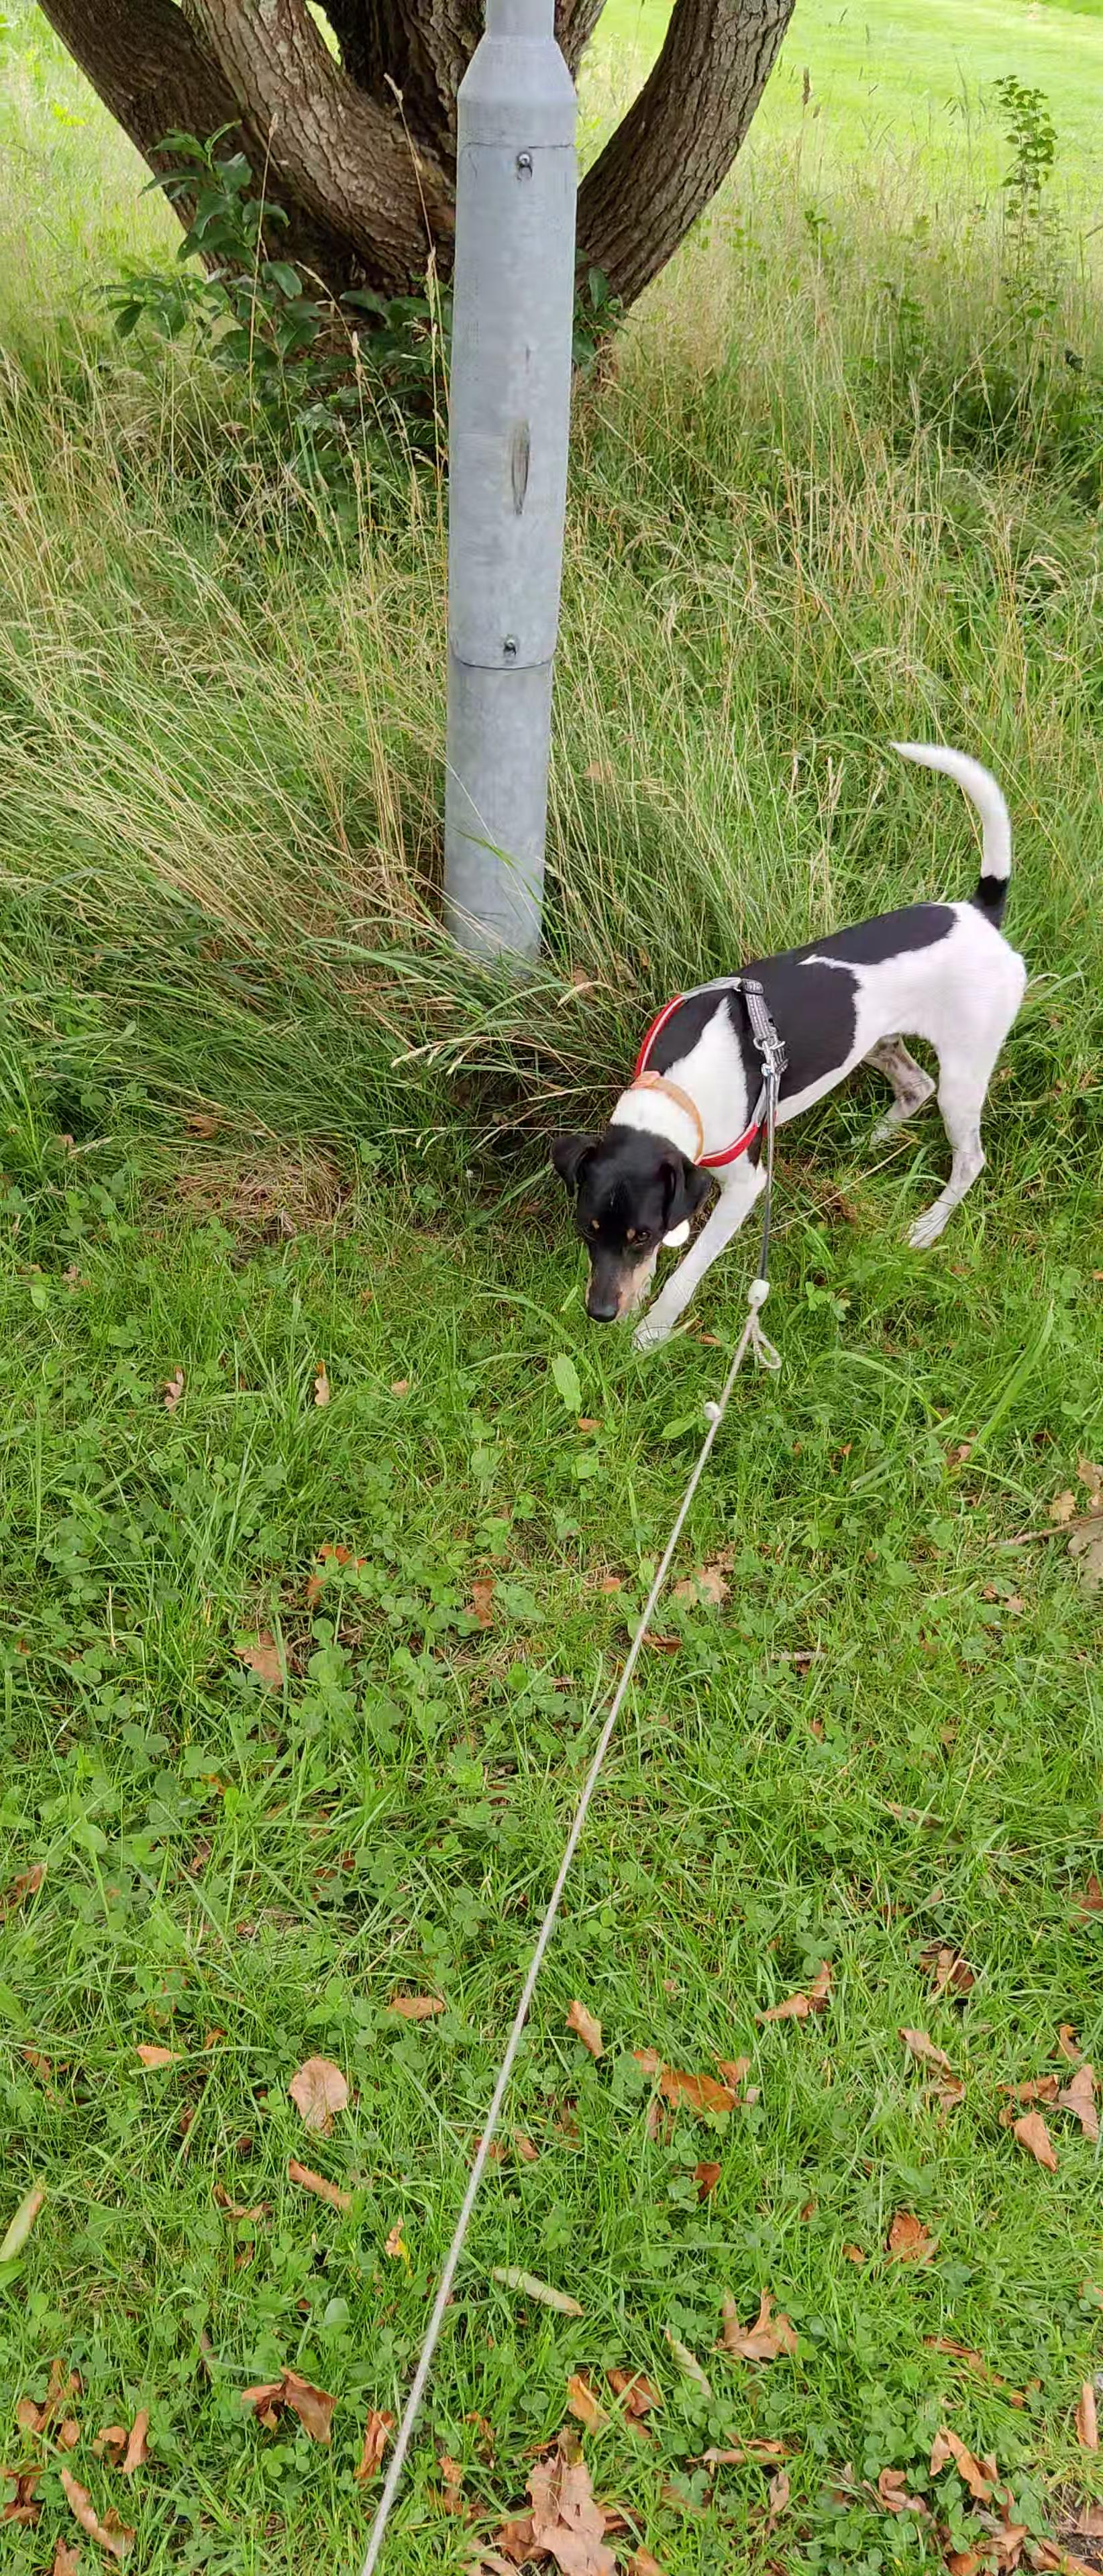Dog: (533, 708, 1037, 1405)
